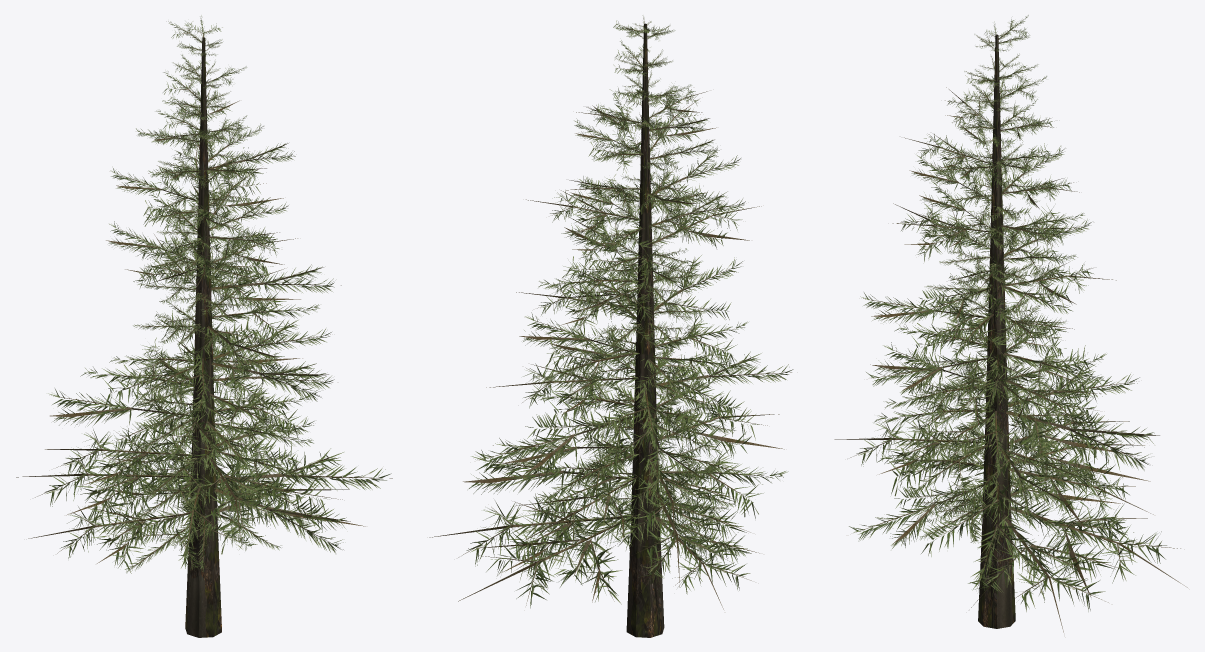
Rendered from fir_a.glb.
3 views of the same model, side by side, from view 1: azimuth 30°, elevation 25°; view 2: azimuth 150°, elevation 25°; view 3: azimuth 270°, elevation 25° (orthographic). The views are drawn at different scales.
Parts seen in each view (by area): view 1: fir_a; view 2: fir_a; view 3: fir_a.
Part boxes in pixels (left/top/right/bottom): fir_a: left=16, top=15, right=392, bottom=637; fir_a: left=429, top=15, right=793, bottom=637; fir_a: left=834, top=15, right=1187, bottom=632.
Size of the model in its own units: 7.25 by 13.26 by 7.3.
Materials: 2 (2 with a texture image).
